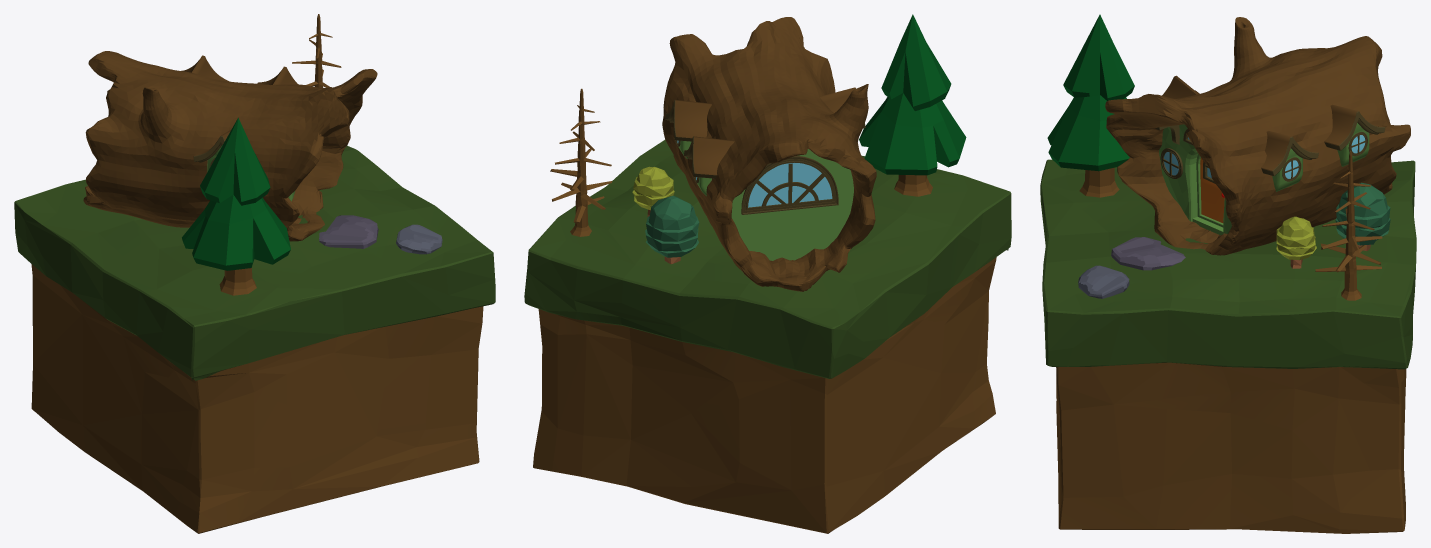
File: tile_house.min.gltf
3 renders of one model, left to right at view 1: azimuth 30°, elevation 25°; view 2: azimuth 150°, elevation 25°; view 3: azimuth 270°, elevation 25°, orthographic. The views are drawn at different scales.
Visible parts, largest first — view 1: CENTERED.021; view 2: CENTERED.021; view 3: CENTERED.021.
Boxes of the visible parts, left/top/right/bottom form: CENTERED.021: left=14, top=14, right=495, bottom=533; CENTERED.021: left=524, top=14, right=1011, bottom=533; CENTERED.021: left=1040, top=14, right=1416, bottom=533.
Bounding box in the file's own units: 1.07 × 1.29 × 1.09.
